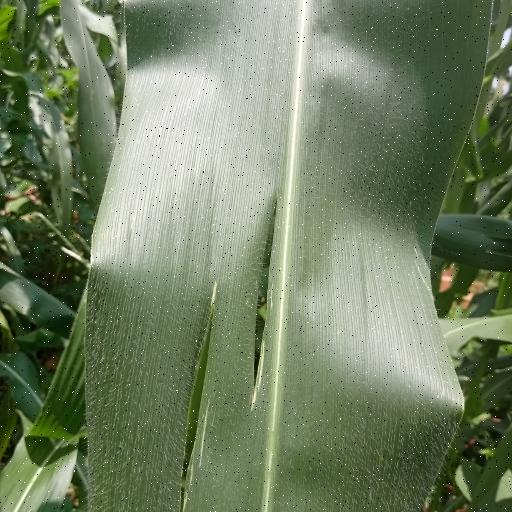Corn_Brown_Spots: (94, 0, 467, 512)
